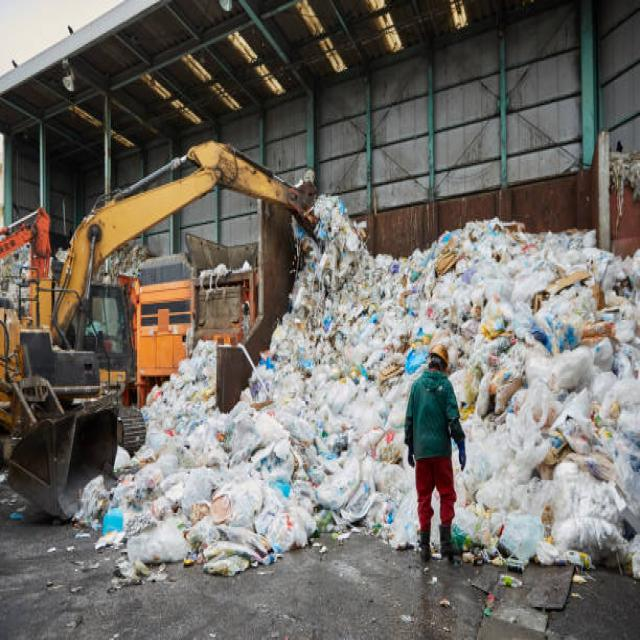trash: (284, 226, 622, 574), (141, 428, 266, 570)
